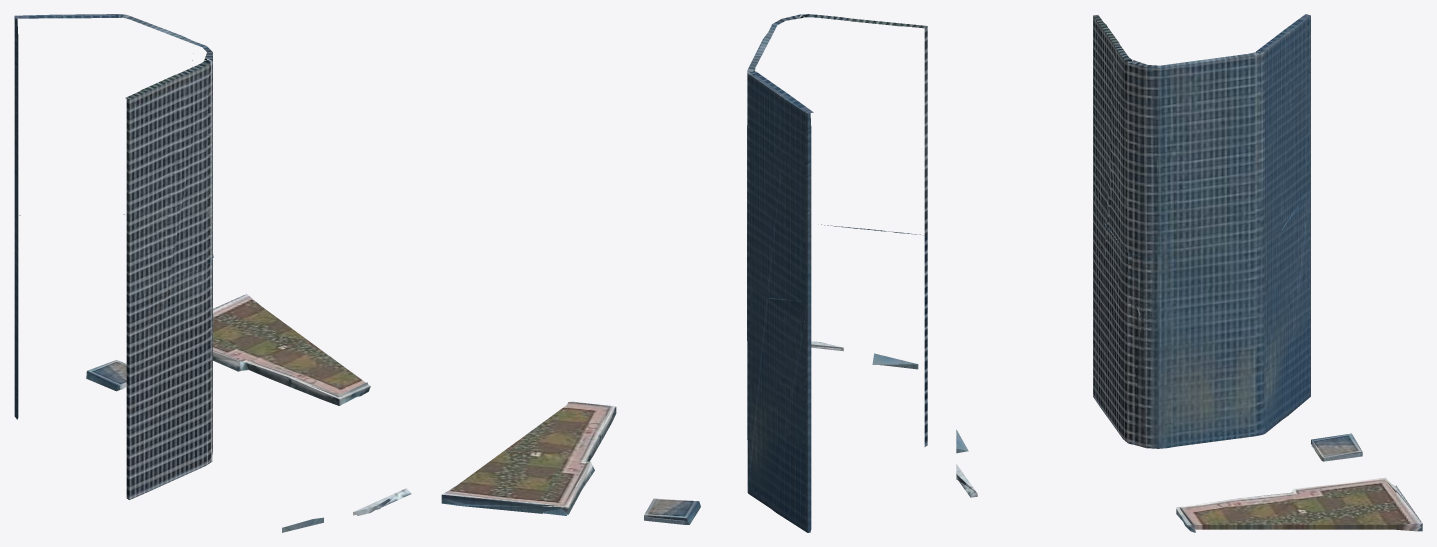
The model's file is chunk_0_8.glb.
3 views of the same model, side by side, from view 1: azimuth 30°, elevation 25°; view 2: azimuth 150°, elevation 25°; view 3: azimuth 270°, elevation 25° (orthographic). The views are drawn at different scales.
Visible parts, largest first — view 1: hero-chunk; view 2: hero-chunk; view 3: hero-chunk.
Boxes of the visible parts, x1,y1,x2,y2 form: hero-chunk: (14, 14, 411, 532); hero-chunk: (441, 14, 927, 532); hero-chunk: (956, 14, 1422, 532).
Bounding box in the file's own units: 56.66 × 73.26 × 80.91.
3 materials, 3 textured.
